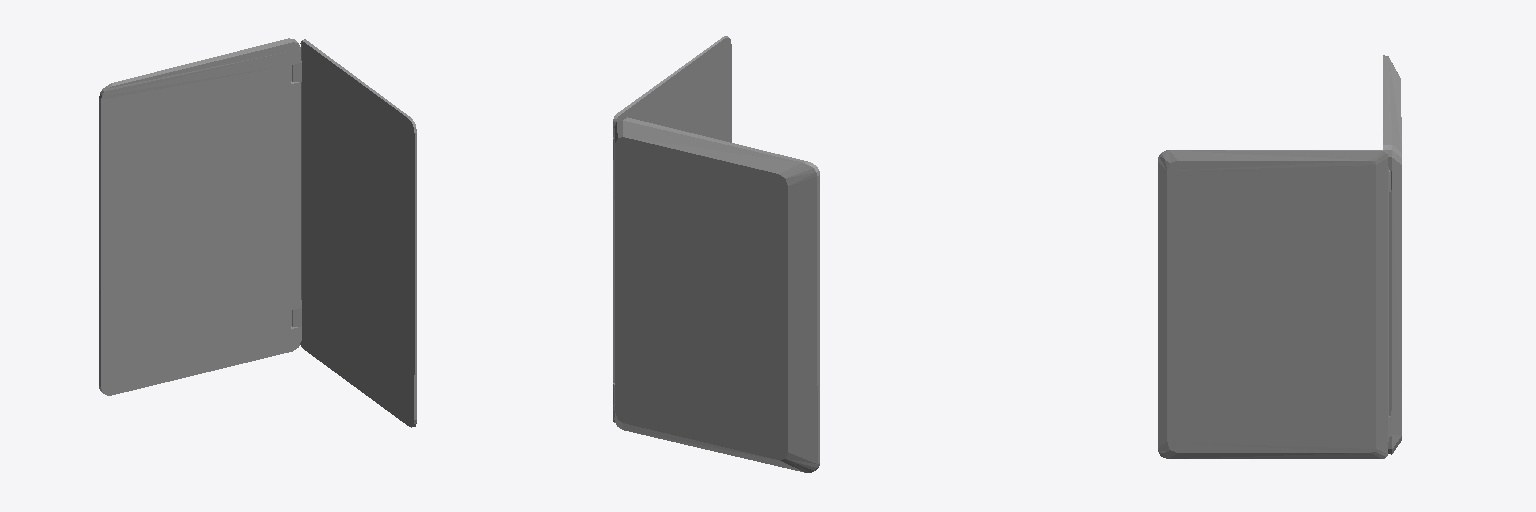
The model's file is notebook.obj.
3 views of the same model, side by side, from view 1: azimuth 30°, elevation 25°; view 2: azimuth 150°, elevation 25°; view 3: azimuth 270°, elevation 25° (orthographic).
Visible parts, largest first — view 1: Lowpoly_Notebook_Cube.001; view 2: Lowpoly_Notebook_Cube.001; view 3: Lowpoly_Notebook_Cube.001.
Boxes of the visible parts, x1=… form: Lowpoly_Notebook_Cube.001: x1=99, y1=38, x2=416, y2=427; Lowpoly_Notebook_Cube.001: x1=613, y1=36, x2=819, y2=472; Lowpoly_Notebook_Cube.001: x1=1158, y1=55, x2=1401, y2=458.
Size of the model in its own units: 35.84 by 51.25 by 36.7.